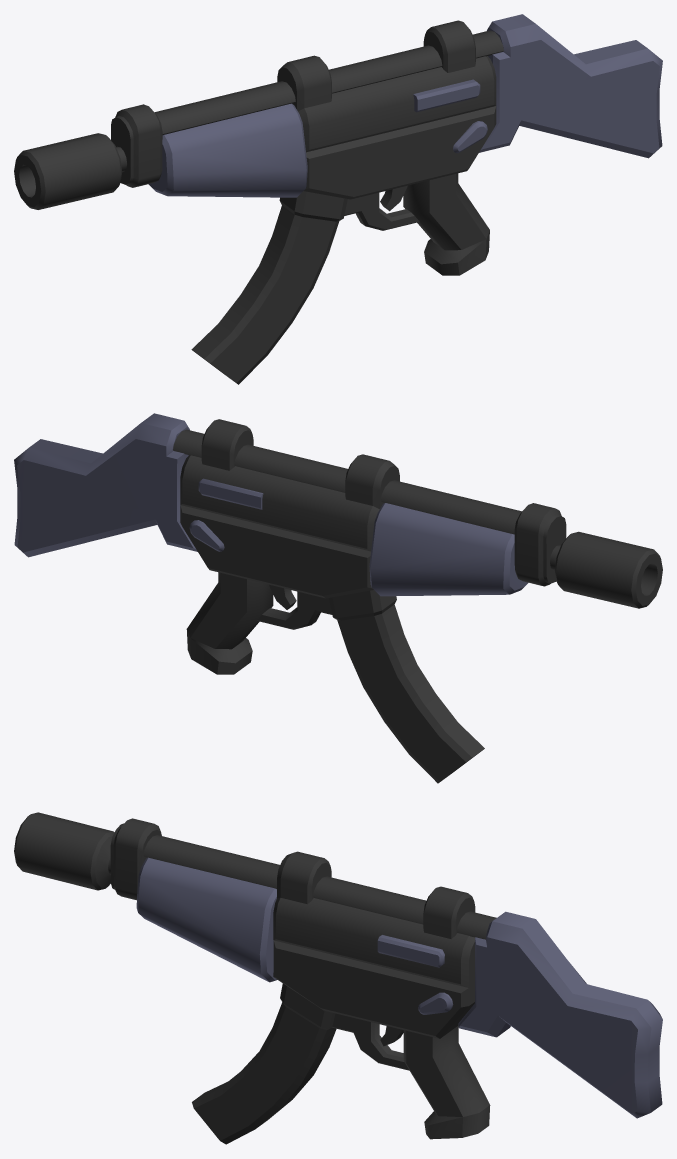
The picture shows the model from 3 angles, top to bottom: view 1: azimuth 30°, elevation 25°; view 2: azimuth 150°, elevation 25°; view 3: azimuth 330°, elevation 25°; orthographic projection.
Parts seen in each view (by area): view 1: MP5; view 2: MP5; view 3: MP5.
Part boxes in pixels (<box>): MP5: <box>14,14,662,384</box>; MP5: <box>14,413,662,783</box>; MP5: <box>14,812,662,1144</box>.
Bounding box in the file's own units: 1921 × 880 × 246.
Materials: 1 (1 with a texture image).
